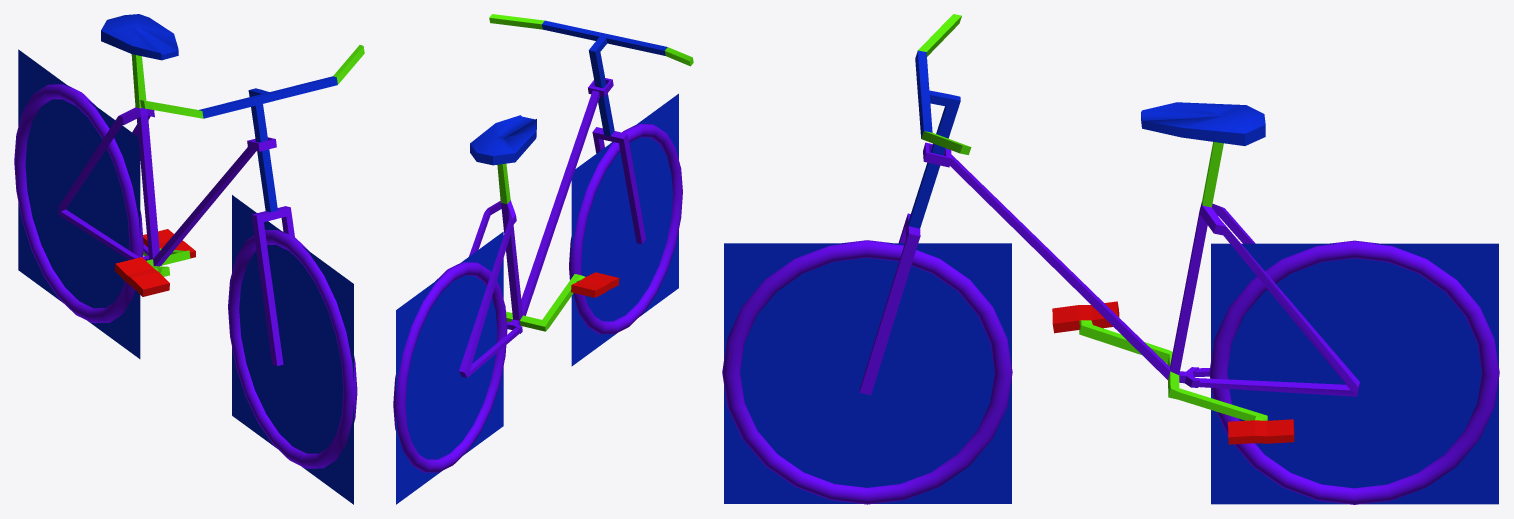
File: bike_model_3.FBX
3 renders of one model, left to right at view 1: azimuth 30°, elevation 25°; view 2: azimuth 150°, elevation 25°; view 3: azimuth 270°, elevation 25°, orthographic. The views are drawn at different scales.
Parts seen in each view (by area): view 1: planeback, planefront, backbike, wheelfront, wheelback, frontwheel; view 2: planeback, planefront, backbike, wheelback, wheelfront, frontwheel; view 3: planefront, planeback, backbike, wheelfront, wheelback, frontwheel.
Part boxes in pixels (x1,y1,x2,y2): planeback: (18,49,140,358); planefront: (232,195,353,504); backbike: (58,14,276,296); wheelfront: (228,230,357,468); wheelback: (14,84,143,323); frontwheel: (140,45,364,365); planeback: (396,231,503,504); planefront: (571,93,678,366); backbike: (459,78,619,377); wheelback: (393,262,507,472); wheelfront: (569,124,682,334); frontwheel: (489,14,693,244); planefront: (724,243,1011,503); planeback: (1211,243,1498,504); backbike: (923,102,1359,444); wheelfront: (722,240,1012,504); wheelback: (1209,240,1499,504); frontwheel: (859,14,971,395).
Size of the model in its own units: 59.28 by 92.27 by 151.
